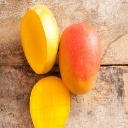mango: (20, 5, 59, 73)
